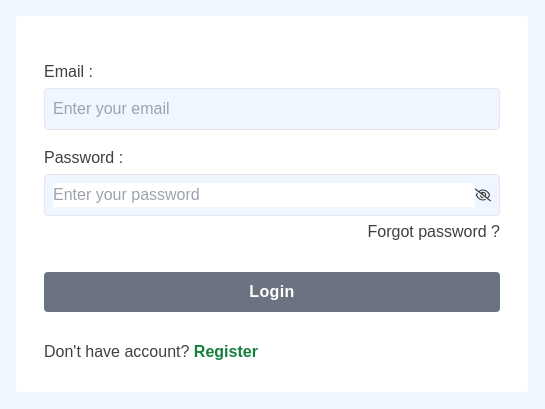
it: Login Component - UI Tests › enables submit when both email and password are filled
Type "test@example.com" into the field labelled "Email :". click: coordinates (272, 109)
box: x1=44 y1=88 x2=500 y2=130
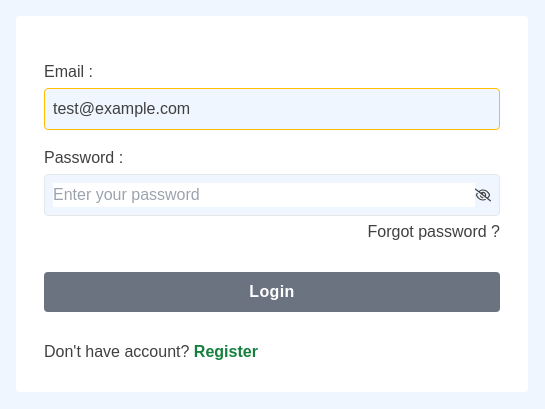
Type "supersecret" into the password field labelled "Password :". click: coordinates (264, 195)
box: x1=53 y1=183 x2=475 y2=207
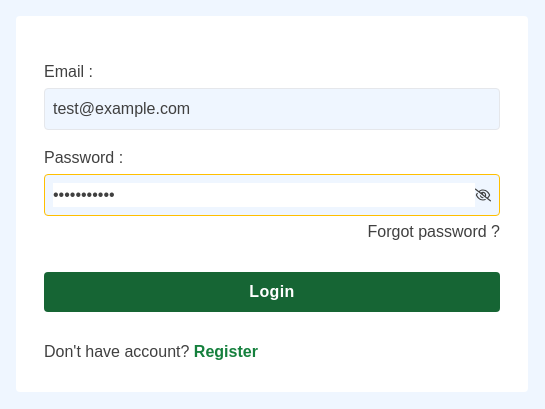
Check: the button "Login" is enabled, box x1=44 y1=272 x2=500 y2=312
